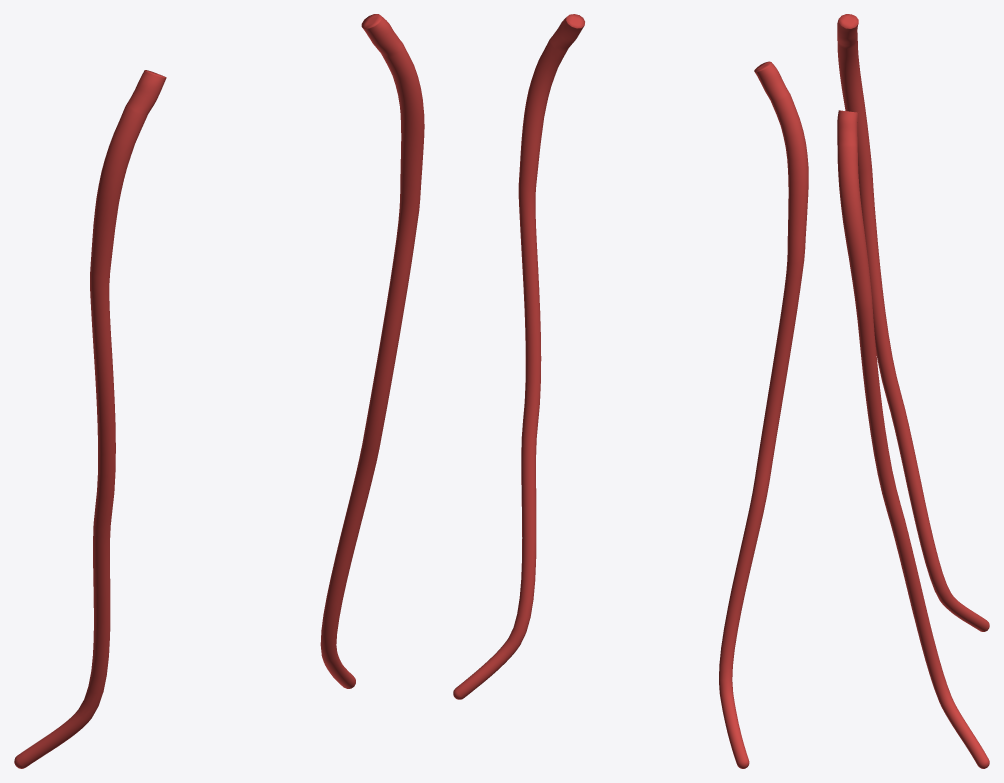
File: femoral_artery_male.glb
The picture shows the model from 3 angles, left to right: view 1: azimuth 30°, elevation 25°; view 2: azimuth 150°, elevation 25°; view 3: azimuth 270°, elevation 25°; orthographic projection. The views are drawn at different scales.
Visible parts, largest first — view 1: Femoral artery.r, Femoral artery.l; view 2: Femoral artery.l, Femoral artery.r; view 3: Femoral artery.l, Femoral artery.r.
Part boxes in pixels (x1,y1,x2,y2): Femoral artery.r: (14,70,166,768); Femoral artery.l: (320,14,424,688); Femoral artery.l: (453,14,584,699); Femoral artery.r: (719,61,808,768); Femoral artery.l: (837,110,989,768); Femoral artery.r: (837,14,989,631).
Size of the model in its own units: 0.154 by 0.3215 by 0.0698.
